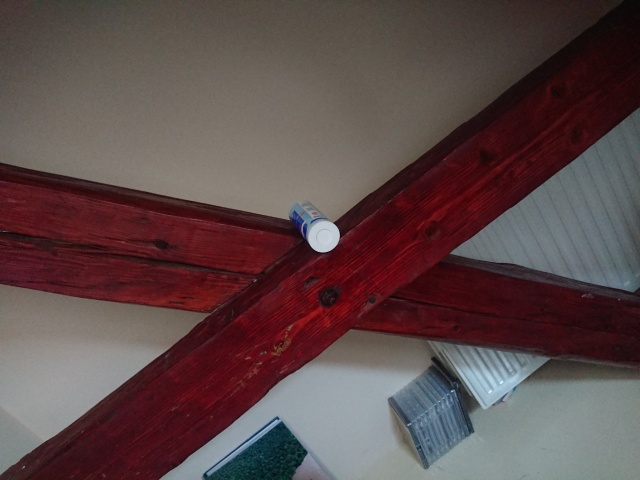Solana Pag Fine Sea Salt 250g: (287, 197, 342, 255)
